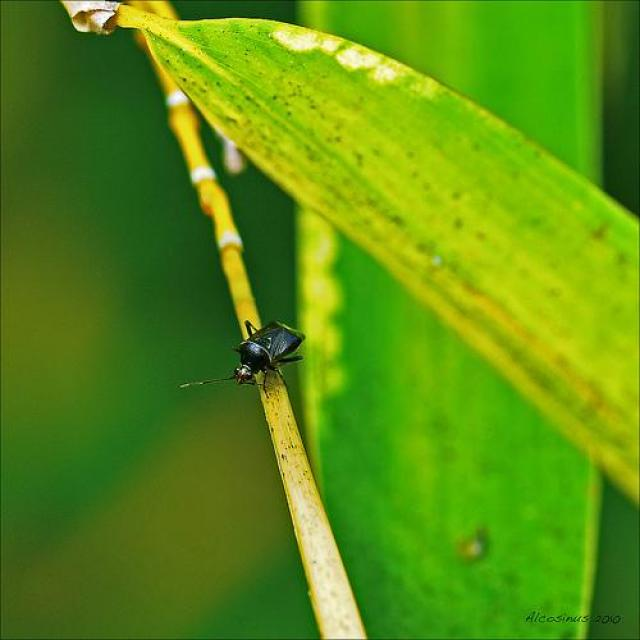Miridae-Adult-: (175, 304, 326, 408)
